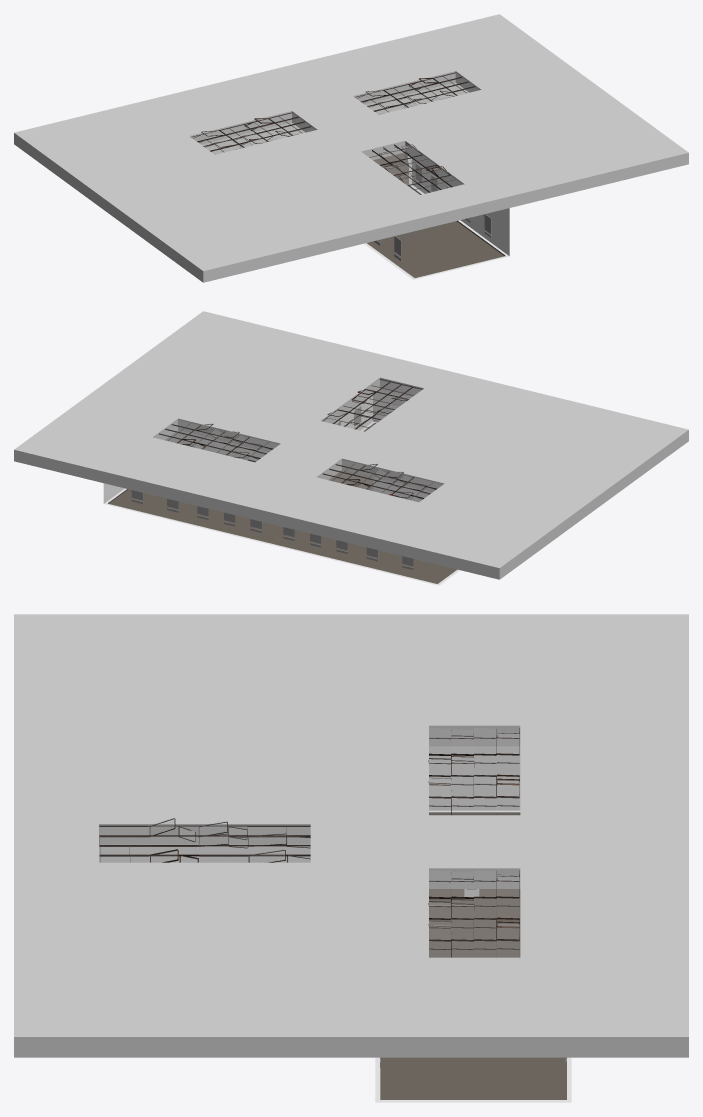
Rendered from galeria.glb.
3 renders of one model, top to bottom at view 1: azimuth 30°, elevation 25°; view 2: azimuth 150°, elevation 25°; view 3: azimuth 270°, elevation 25°, orthographic. The views are drawn at different scales.
Parts seen in each view (by area): view 1: Box091, Object004, Object005; view 2: Box091, Object004, Object005; view 3: Box091, Object004, Object005, ProjectedWindow124, ProjectedWindow125.
Boxes of the visible parts, x1,y1,x2,y2 form: Box091: [14, 14, 688, 282]; Object004: [367, 153, 505, 277]; Object005: [201, 82, 509, 279]; Box091: [14, 311, 688, 579]; Object004: [108, 423, 457, 583]; Object005: [103, 389, 459, 585]; Box091: [14, 614, 688, 1057]; Object004: [380, 812, 566, 1099]; Object005: [99, 746, 571, 1102]; ProjectedWindow124: [247, 833, 310, 848]; ProjectedWindow125: [247, 825, 310, 837].
Bounding box in the file's own units: 290 × 39.57 × 196.
Materials: 53 (4 with a texture image).
